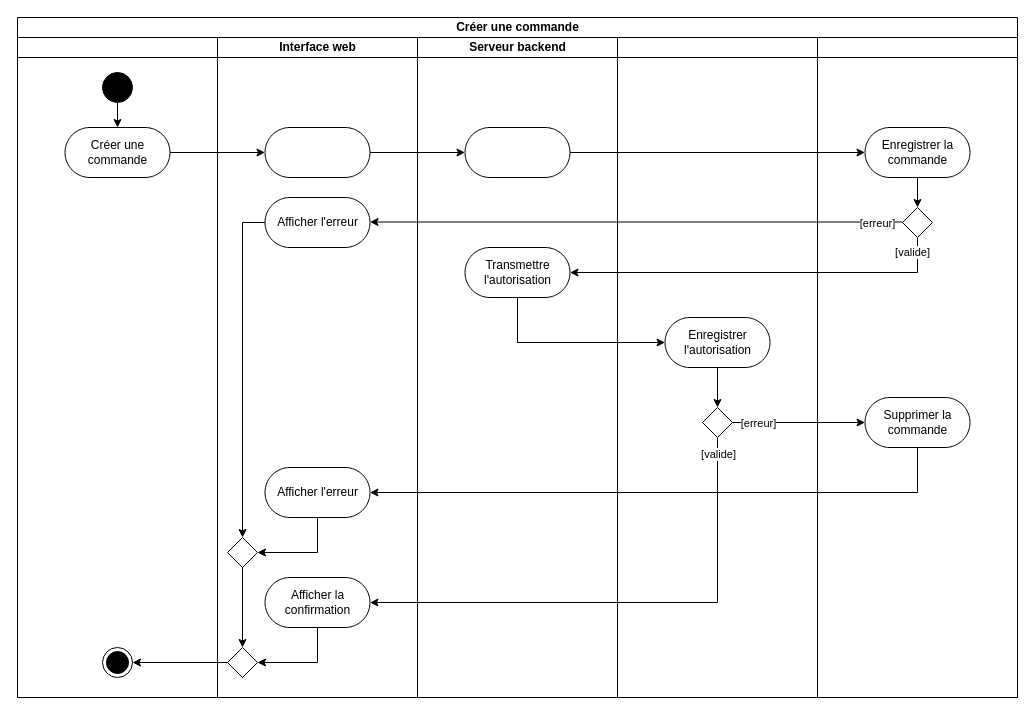
Image size: 1035x715. Some labels were removed from this diagram. Each missing label, with the box of its shape:
Client: (16, 36, 218, 698)
Contrat intelligent: (616, 36, 818, 698)
Serveur stockage: (816, 36, 1018, 698)
Transmettre la commande: (464, 126, 570, 178)
Transmettre la requête: (264, 126, 370, 178)
